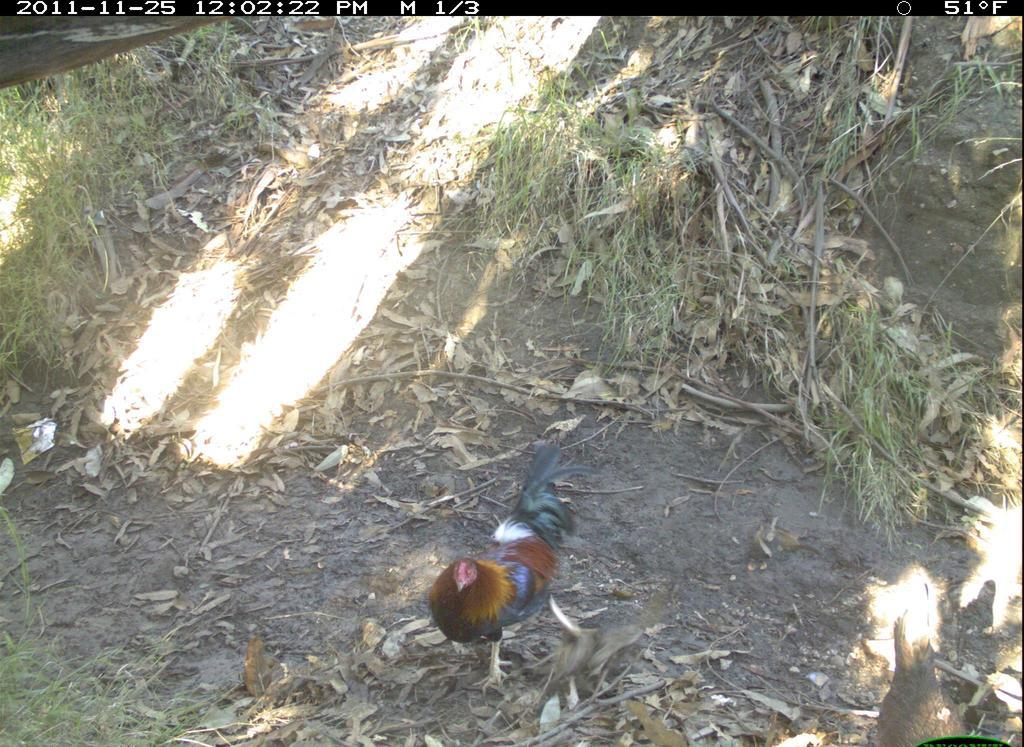bird: (425, 440, 591, 692), (865, 590, 978, 747)
